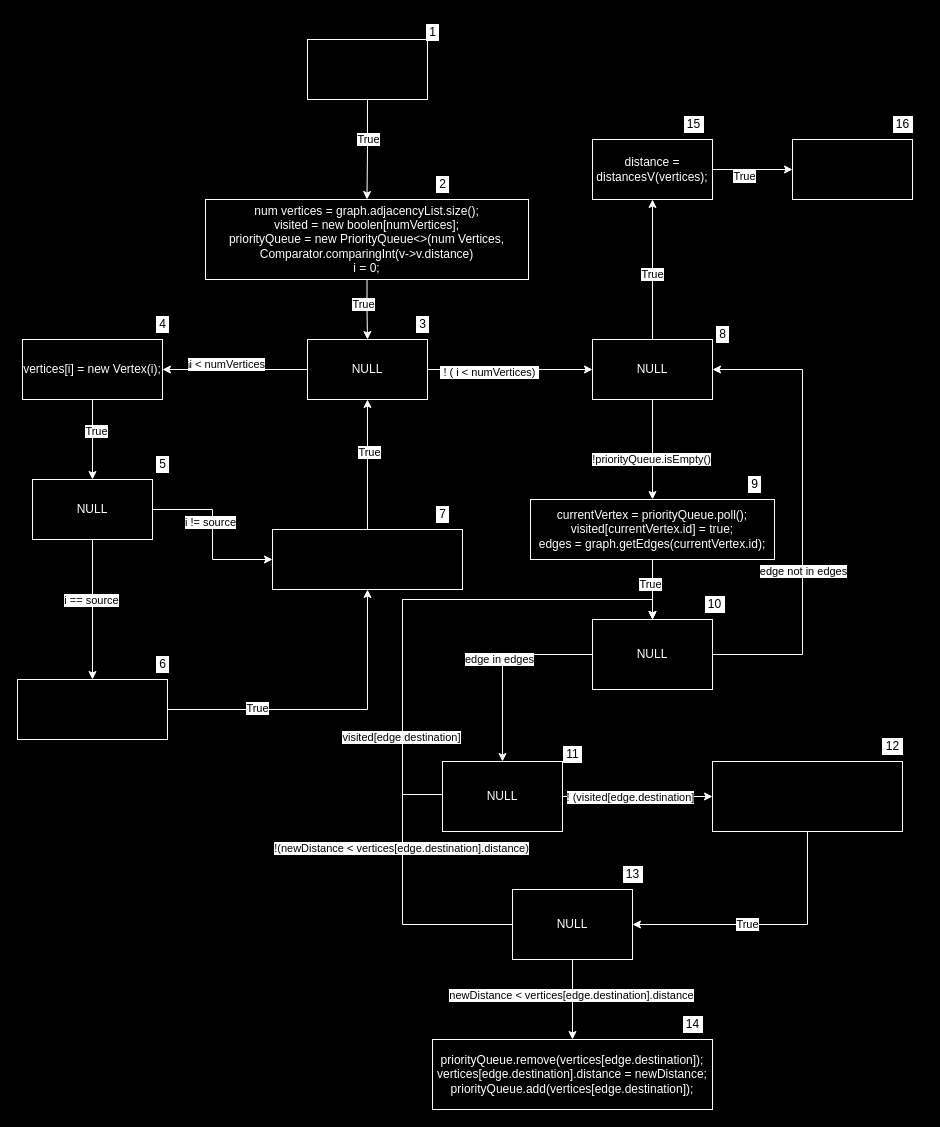
The diagram is 940 pixels wide and 1127 high, and some of its shapes have lost their labels. Each missing label, with the centre of its shape:
"Initialize: graph, source" belongs at point (367, 69).
"newDistance = currentVertex.distance + edge.weight" belongs at point (807, 796).
"priorityQueue.add(vertices[i]) i++;" belongs at point (367, 559).
"return distance;" belongs at point (852, 169).
"vertices[i].distance = 0" belongs at point (92, 709).
